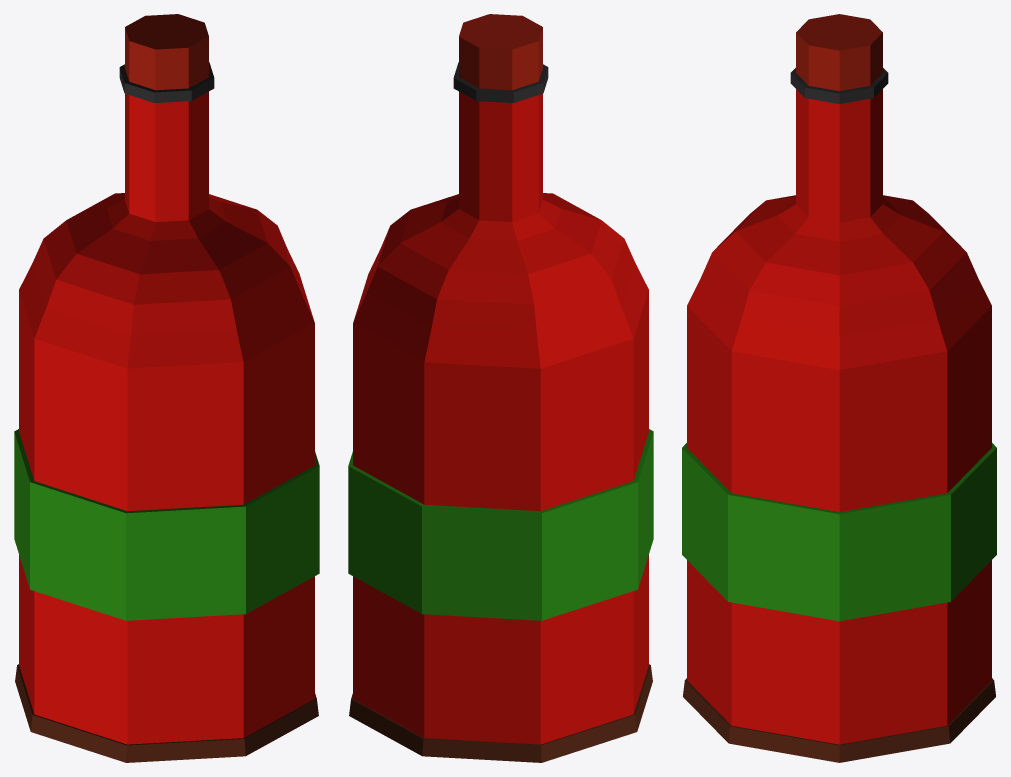
Rendered from Bottle 8.fbx.
The picture shows the model from 3 angles, left to right: view 1: azimuth 30°, elevation 25°; view 2: azimuth 150°, elevation 25°; view 3: azimuth 270°, elevation 25°; orthographic projection.
Visible parts, largest first — view 1: Node 0; view 2: Node 0; view 3: Node 0.
Boxes of the visible parts, x1=… form: Node 0: x1=14, y1=14, x2=319, y2=762; Node 0: x1=348, y1=14, x2=653, y2=762; Node 0: x1=682, y1=14, x2=996, y2=762.
Bounding box in the file's own units: 0.18 × 0.4191 × 0.18.
